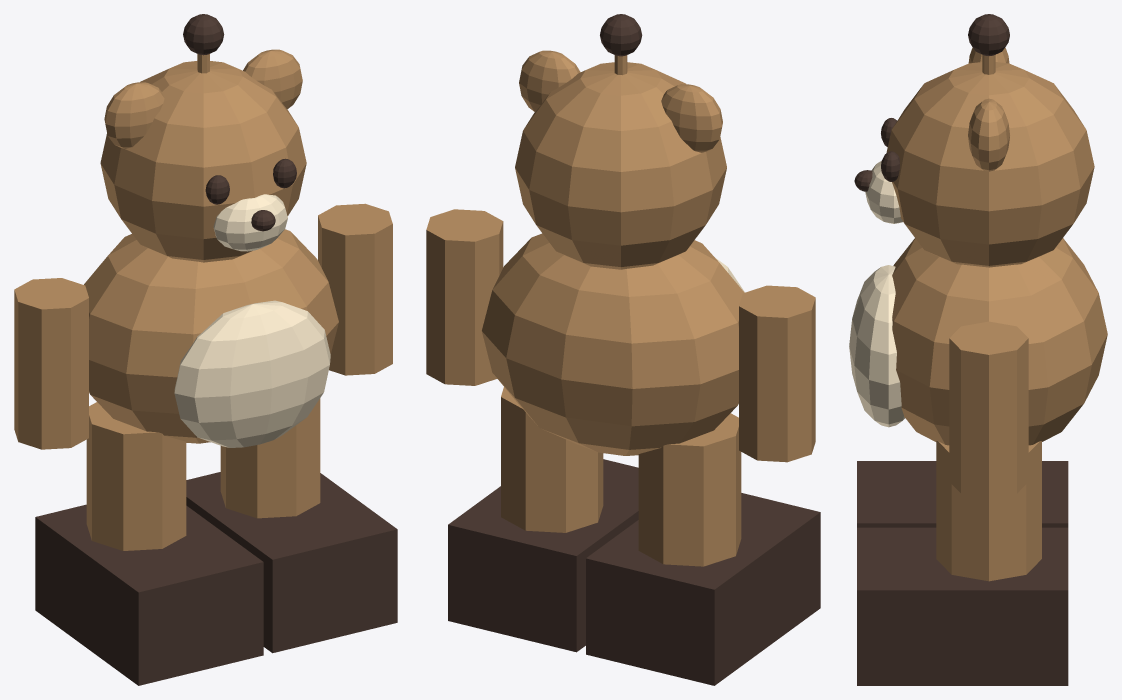
The model's file is character.glb.
3 renders of one model, left to right at view 1: azimuth 30°, elevation 25°; view 2: azimuth 150°, elevation 25°; view 3: azimuth 270°, elevation 25°, orthographic. The views are drawn at different scales.
Parts seen in each view (by area): view 1: BootR, Body, Head, BootL, Belly, ArmR, LegR, ArmL, LegL, Muzzle, EarR, EarL (+2 smaller); view 2: Body, Head, BootR, BootL, ArmR, LegR, ArmL, LegL, EarR, EarL, AntennaTip; view 3: Head, BootL, Body, ArmL, LegL, BootR, Belly, EarL, AntennaTip, Muzzle, EyeL.
Boxes of the visible parts, x1,y1,x2,y2 form: BootR: (35, 504, 263, 685); Body: (84, 229, 338, 443); Head: (100, 61, 306, 262); BootL: (186, 472, 397, 653); Belly: (174, 300, 330, 447); ArmR: (14, 278, 88, 449); LegR: (86, 402, 186, 550); ArmL: (318, 203, 392, 375); LegL: (220, 398, 320, 518); Muzzle: (213, 194, 287, 251); EarR: (104, 82, 164, 148); EarL: (243, 49, 302, 109); Body: (482, 233, 744, 455); Head: (515, 62, 726, 269); BootR: (586, 493, 820, 685); BootL: (448, 459, 638, 652); ArmR: (739, 285, 815, 462); LegR: (638, 413, 741, 566); ArmL: (426, 209, 503, 385); LegL: (501, 387, 603, 532); EarR: (661, 84, 722, 152); EarL: (519, 50, 580, 111); AntennaTip: (600, 14, 642, 56); Head: (886, 62, 1094, 267); BootL: (857, 527, 1068, 685); Body: (892, 238, 1107, 445); ArmL: (949, 321, 1028, 498); LegL: (936, 441, 1041, 581); BootR: (857, 461, 1068, 527); Belly: (849, 265, 904, 427); EarL: (968, 98, 1009, 171); AntennaTip: (968, 14, 1009, 55); Muzzle: (865, 161, 902, 223); EyeL: (881, 151, 899, 181).
Size of the model in its own units: 1.66 by 2.53 by 0.98.
